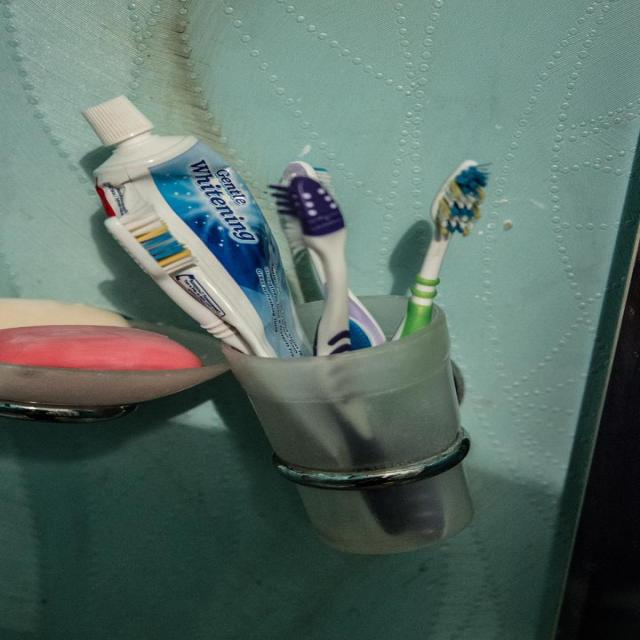Toothpaste: (84, 88, 298, 464)
